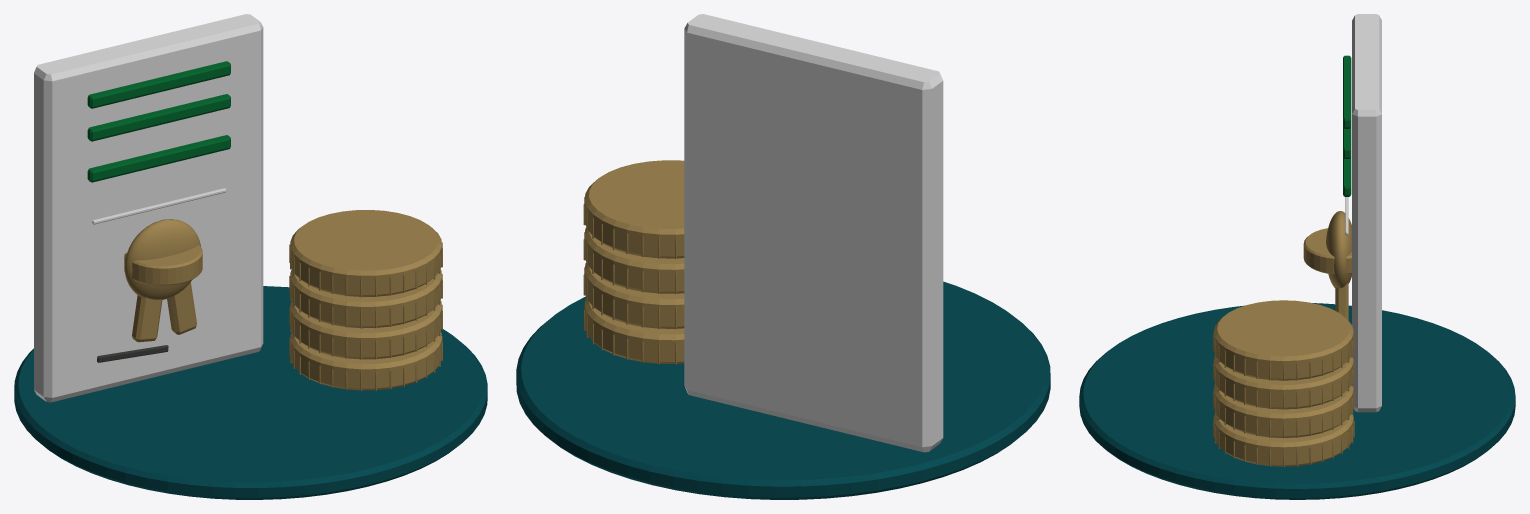
Rendered from funding.glb.
3 renders of one model, left to right at view 1: azimuth 30°, elevation 25°; view 2: azimuth 150°, elevation 25°; view 3: azimuth 270°, elevation 25°, orthographic. The views are drawn at different scales.
Parts seen in each view (by area): view 1: body, pedestal; view 2: body, pedestal; view 3: pedestal, body.
Part boxes in pixels (left/top/right/bottom): body: left=34, top=14, right=442, bottom=402; pedestal: left=14, top=286, right=487, bottom=499; body: left=583, top=14, right=943, bottom=452; pedestal: left=516, top=281, right=1050, bottom=499; pedestal: left=1079, top=303, right=1515, bottom=499; body: left=1213, top=14, right=1381, bottom=466.
Bounding box in the file's own units: 4.4 × 3.54 × 4.4.
